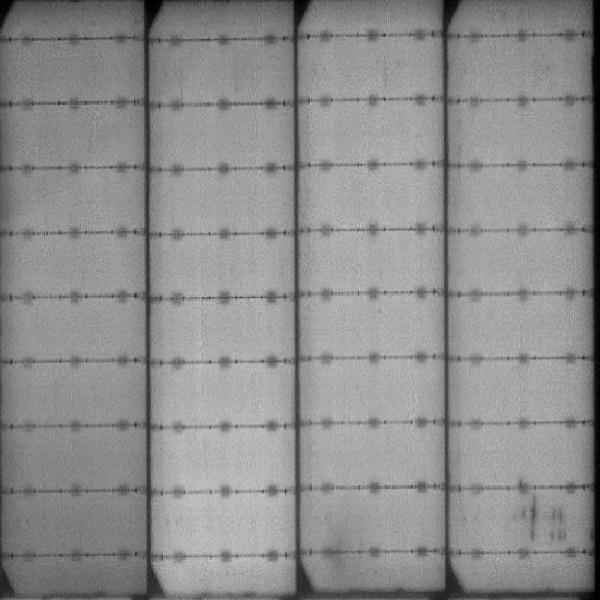scratch: (521, 493, 541, 544), (546, 506, 575, 541)
